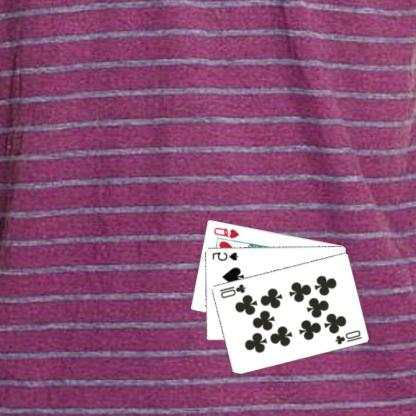10C: (334, 327, 365, 346), (218, 281, 248, 299)
5S: (211, 249, 241, 262)
QH: (212, 224, 242, 240)
